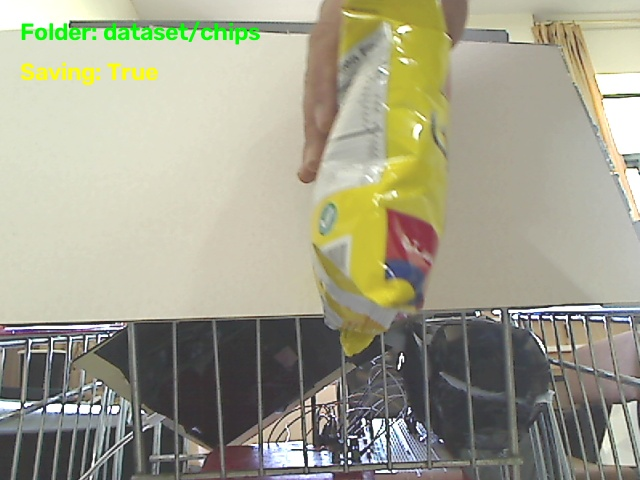chips: (312, 0, 451, 355)
